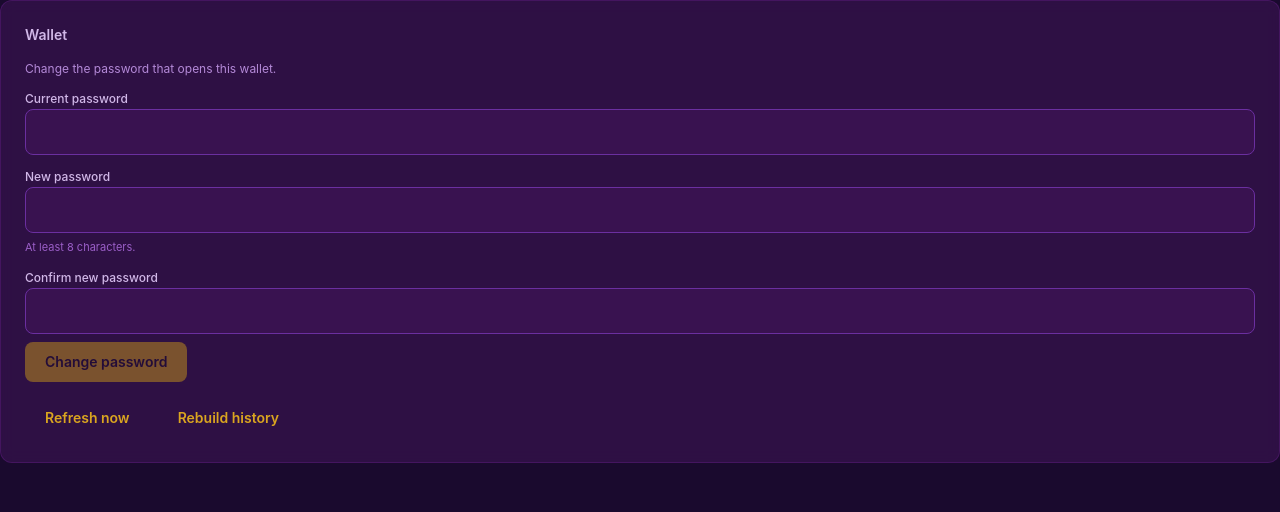
WalletCare › asks for the new password twice and refuses a short one
The width and height of the screenshot is (1280, 512).
Type "current-password" into the password field labelled "Current password" at point(640, 132), box [25,109,1255,155]
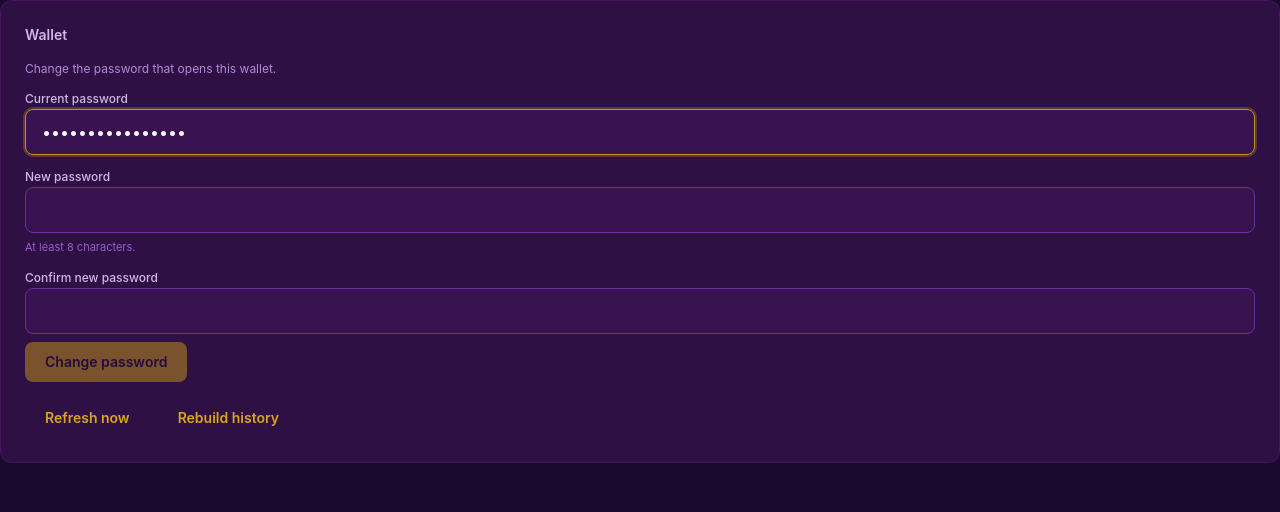
Type "short" into the password field labelled "New password" at point(640, 210), box [25,187,1255,233]
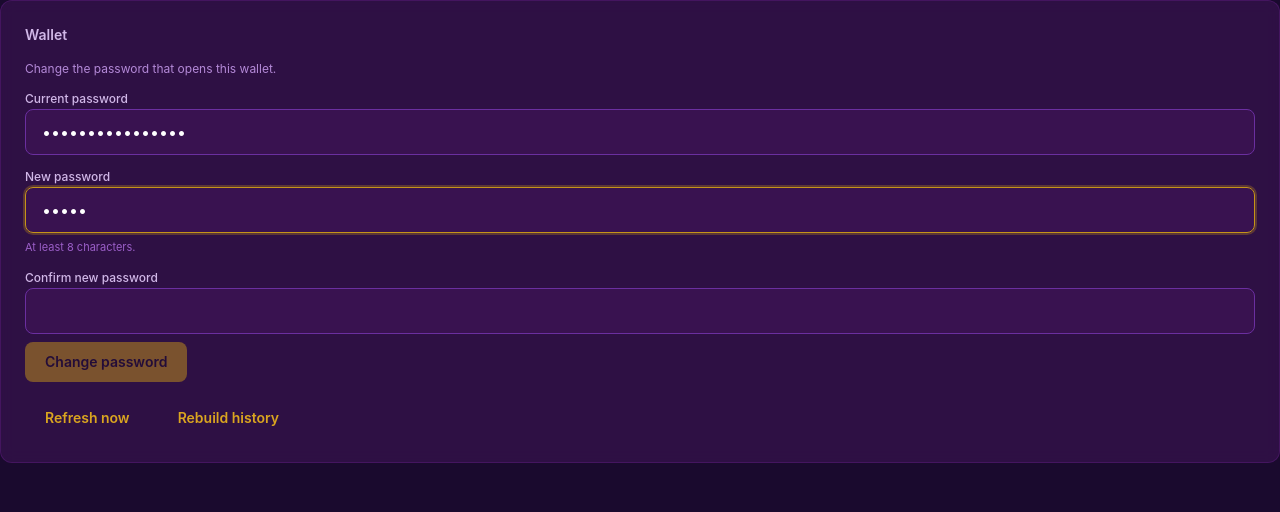
Type "short" into the password field labelled "Confirm new password" at point(640, 310), box [25,288,1255,334]
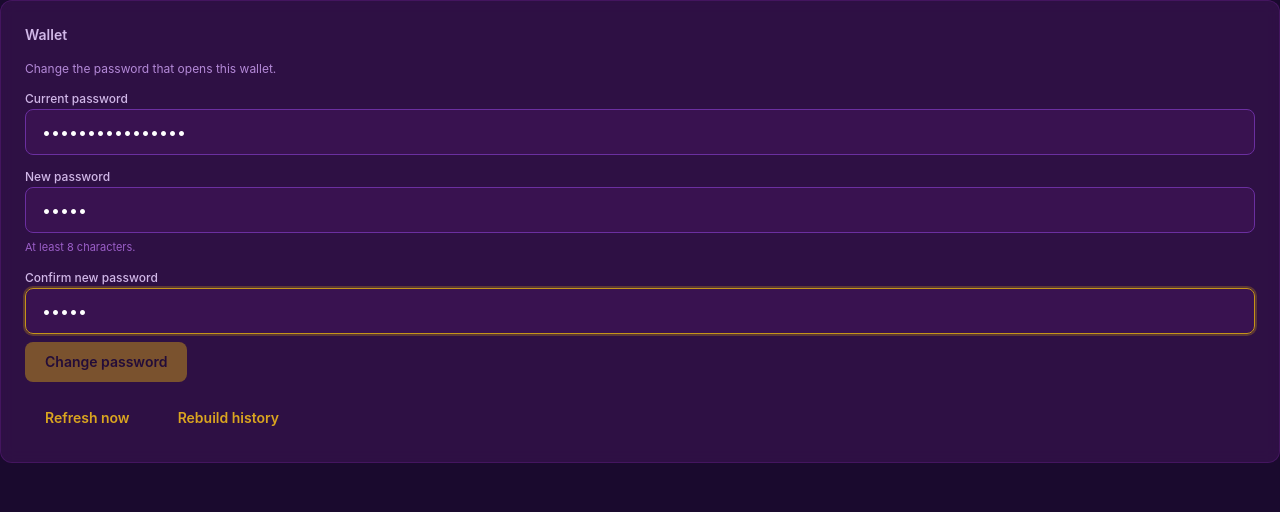
Check: the button "Change password" is disabled, box [25,342,187,382]
Type "long-enough" into the password field labelled "New password" at point(640, 210), box [25,187,1255,233]
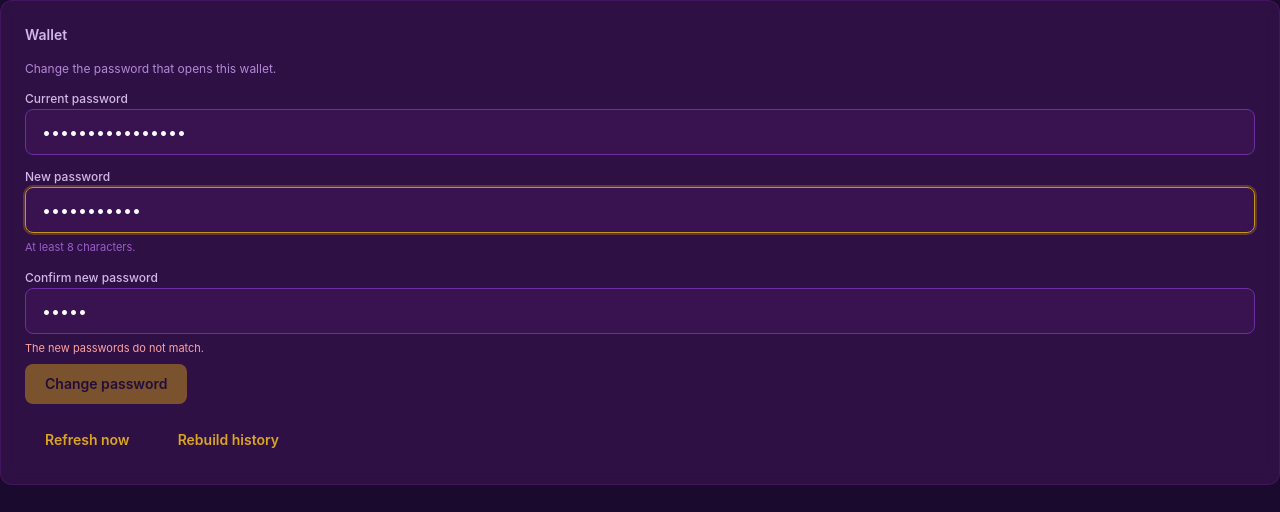
Check: the text "The new passwords do not match." is shown, box [25,340,204,354]
Type "long-enough" into the password field labelled "Confirm new password" at point(640, 310), box [25,288,1255,334]
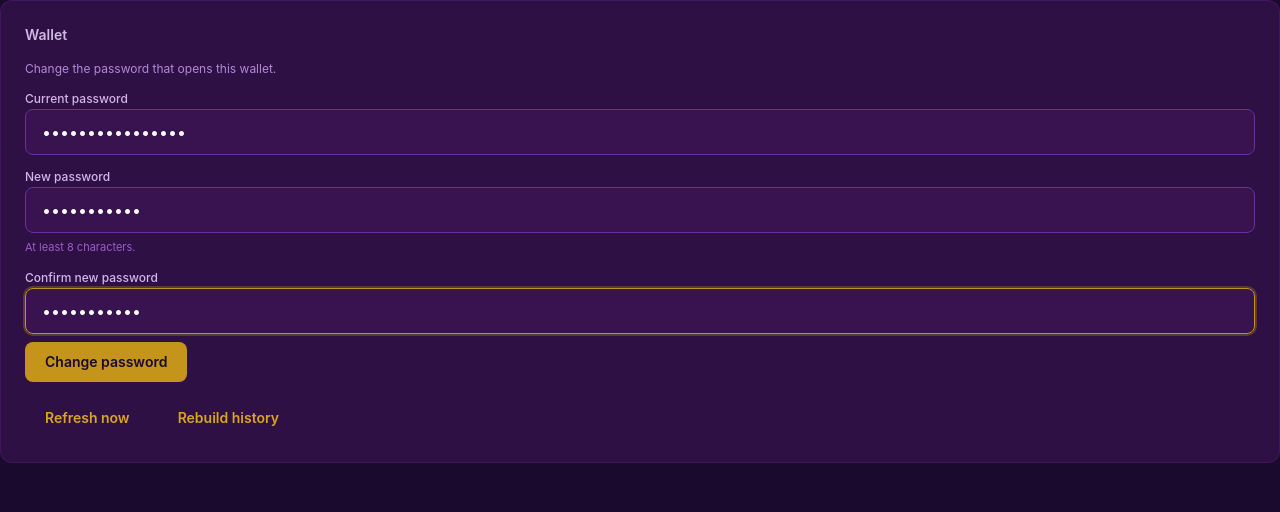
Click the button "Change password" at point(106, 362), box [25,342,187,382]
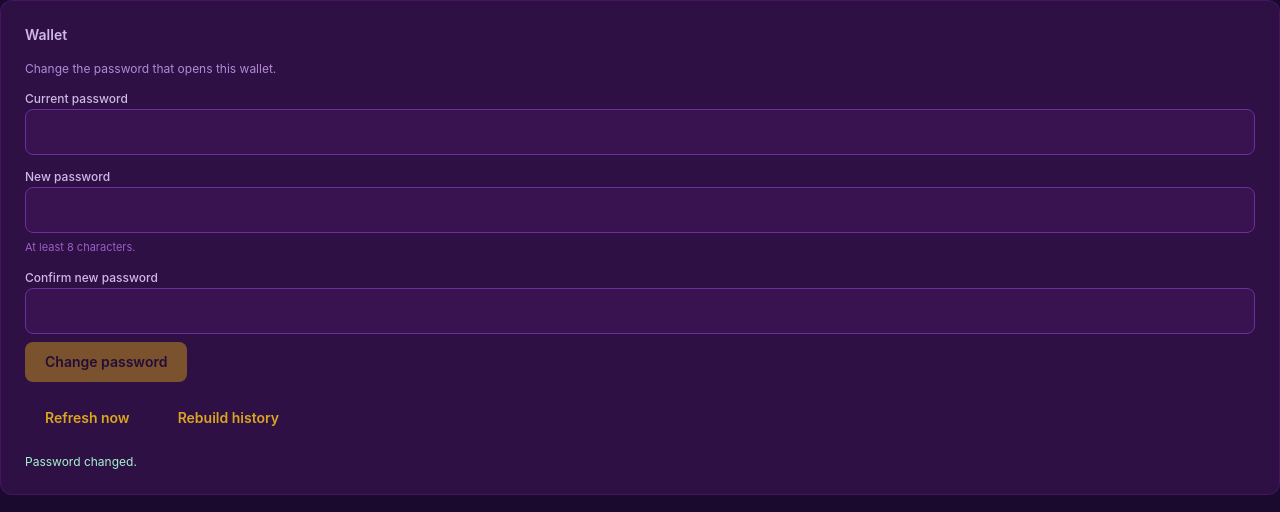
Check: the text "Password changed." is shown, box [25,454,137,468]
